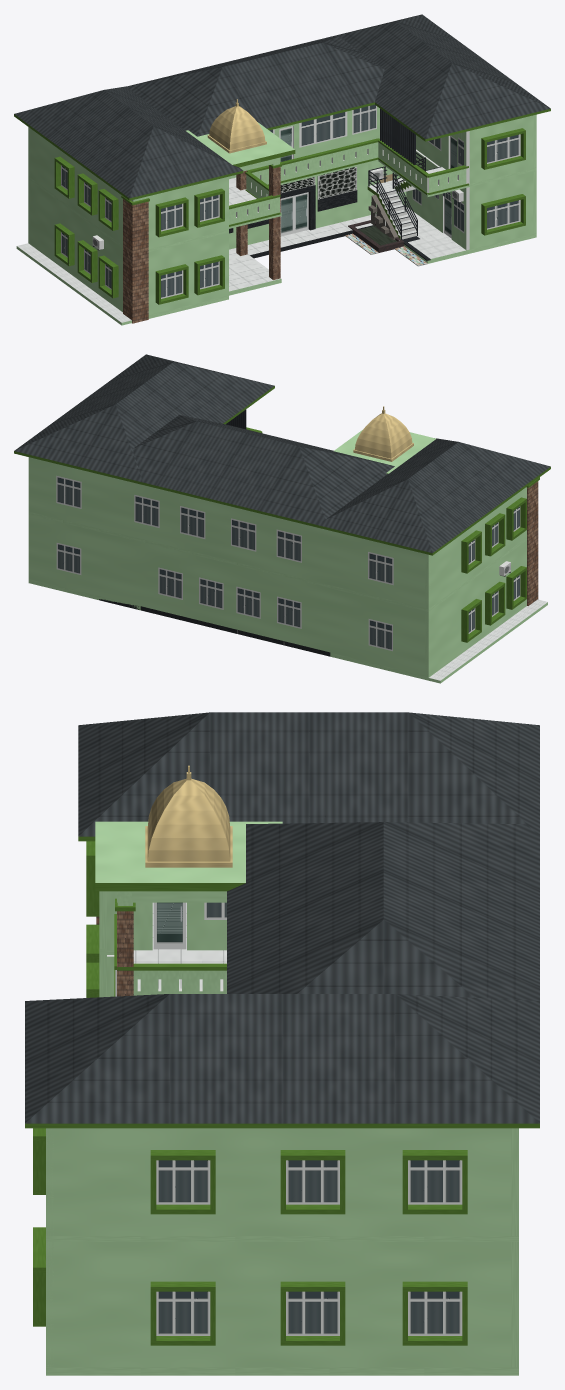
Rendered from gedung_perhotelan_2lantai_web.glb.
3 views of the same model, one above another, from view 1: azimuth 30°, elevation 25°; view 2: azimuth 150°, elevation 25°; view 3: azimuth 270°, elevation 25° (orthographic). The views are drawn at different scales.
Parts seen in each view (by area): view 1: Gedung_Perhotelan_2Lantai, Pintu_Utama_Kanan, Pintu_Utama_Kiri; view 2: Gedung_Perhotelan_2Lantai; view 3: Gedung_Perhotelan_2Lantai, Pintu_L2_Kiri.
Boxes of the visible parts, left/top/right/bottom form: Gedung_Perhotelan_2Lantai: left=14, top=14, right=550, bottom=325; Pintu_Utama_Kanan: left=294, top=192, right=308, bottom=232; Pintu_Utama_Kiri: left=280, top=195, right=294, bottom=236; Gedung_Perhotelan_2Lantai: left=14, top=354, right=550, bottom=683; Gedung_Perhotelan_2Lantai: left=25, top=712, right=539, bottom=1375; Pintu_L2_Kiri: left=153, top=902, right=186, bottom=949.
Size of the model in its own units: 24.85 by 10.18 by 13.5.
Materials: 1 (1 with a texture image).
